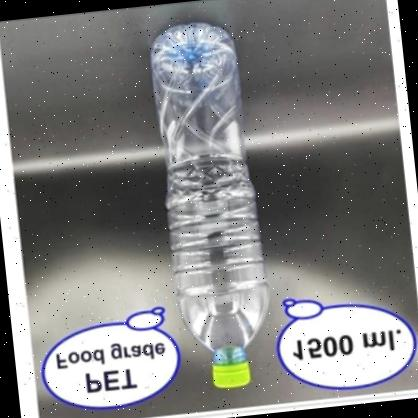bottle: (146, 16, 279, 391)
cap: (210, 357, 253, 387)
